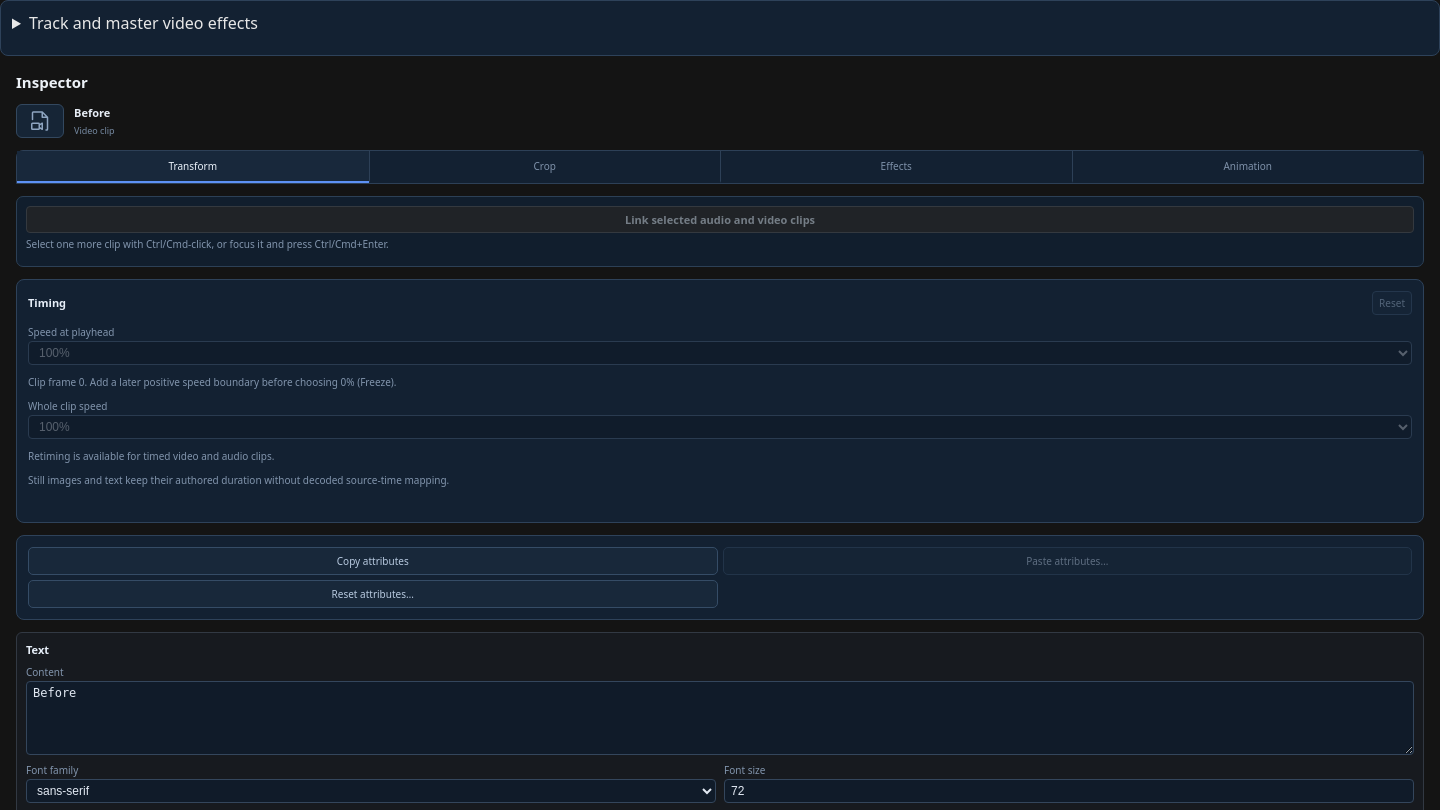
Test: text overlay editing UI › commits content and style edits once, and explains invalid geometry
Step 1. Replace the text in the text box with test id "inspector-text-content" with "After" → (720, 718), box [26, 680, 1414, 754]
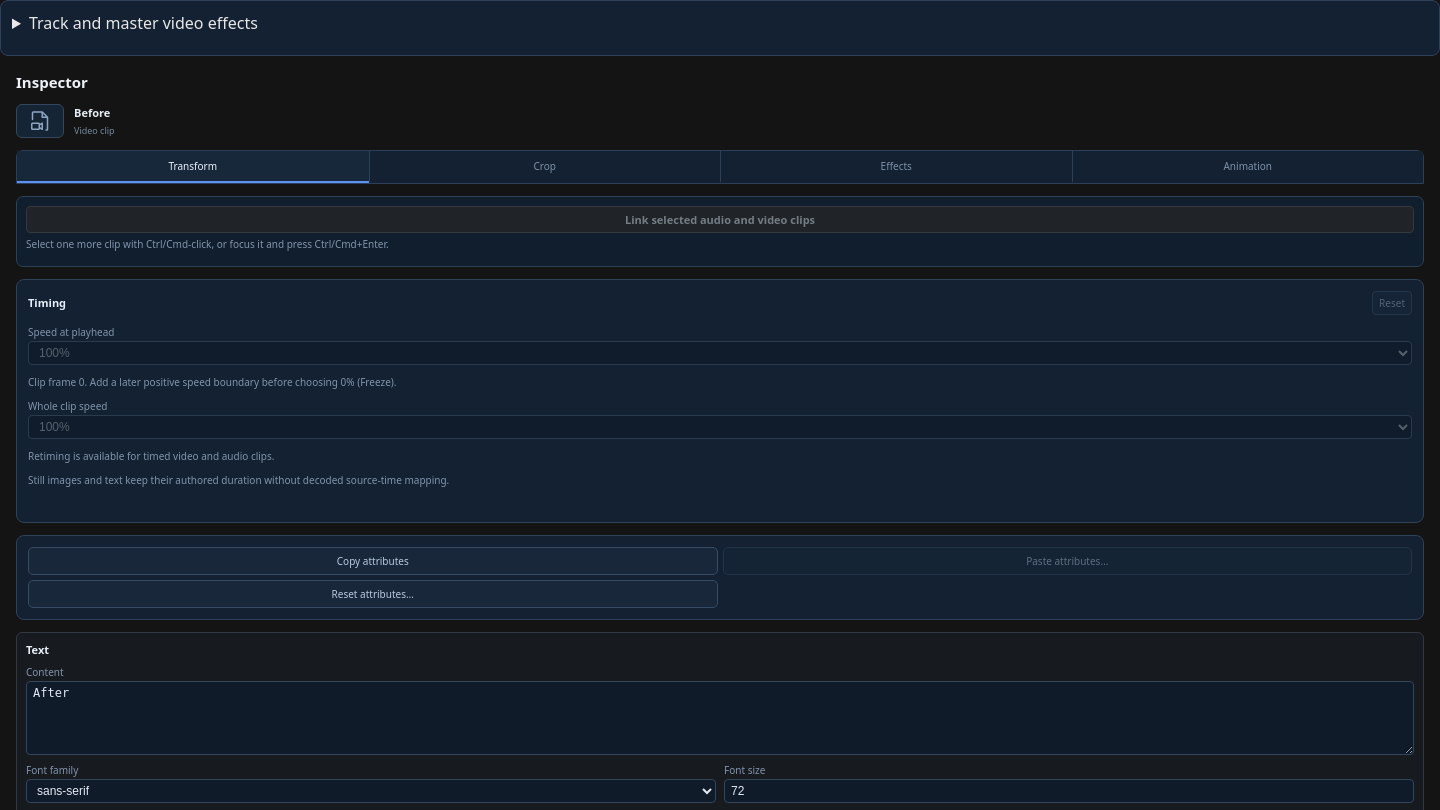
Expected: the text "Before" is shown, [74, 105, 110, 120]
Step 2. Leave the text box with test id "inspector-text-content", box [26, 680, 1414, 754]
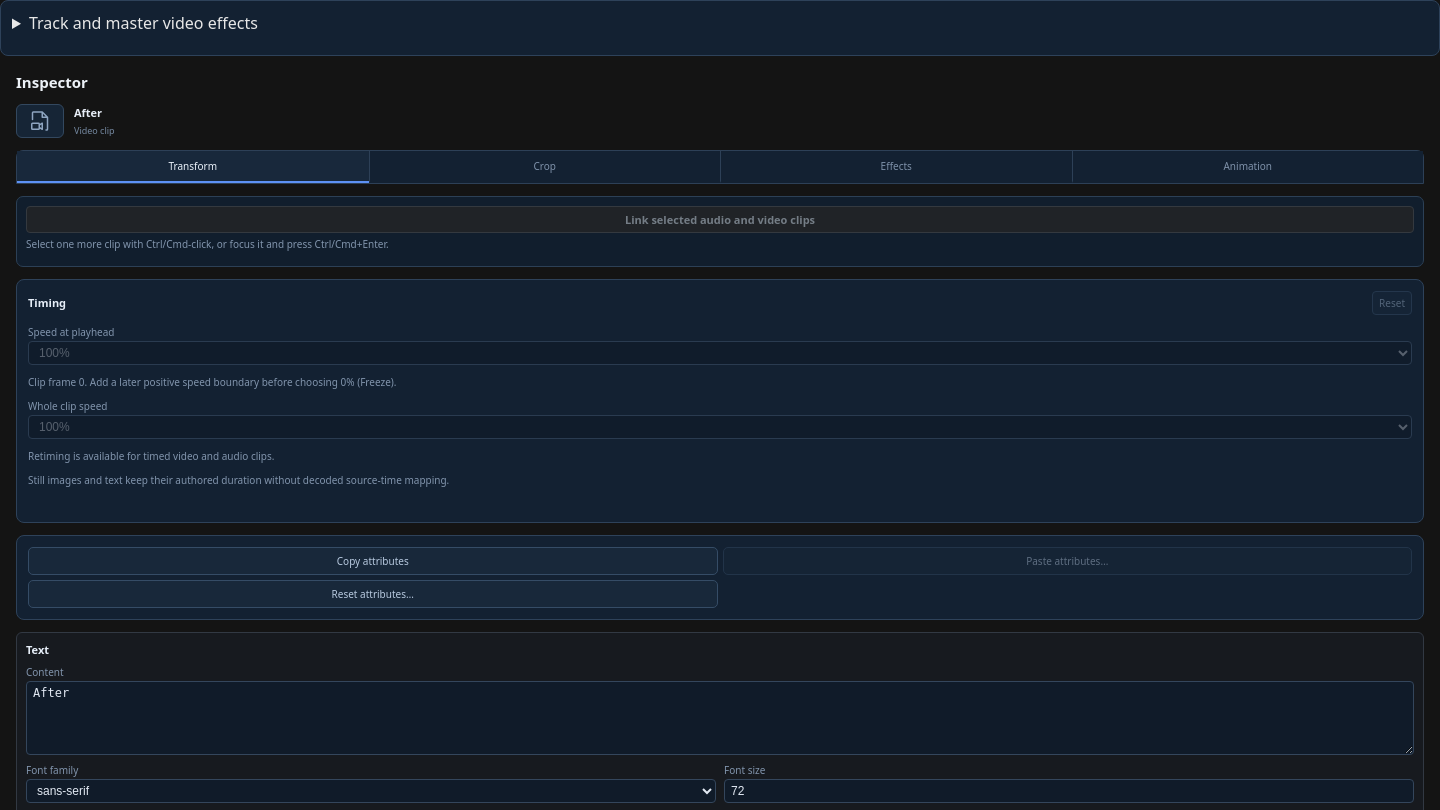
Now the text "After" is shown, box [74, 105, 102, 120]
Step 3. Select "monospace" in the dropdown with test id "inspector-text-font" → (371, 790), box [26, 778, 716, 802]
(page scrolled)
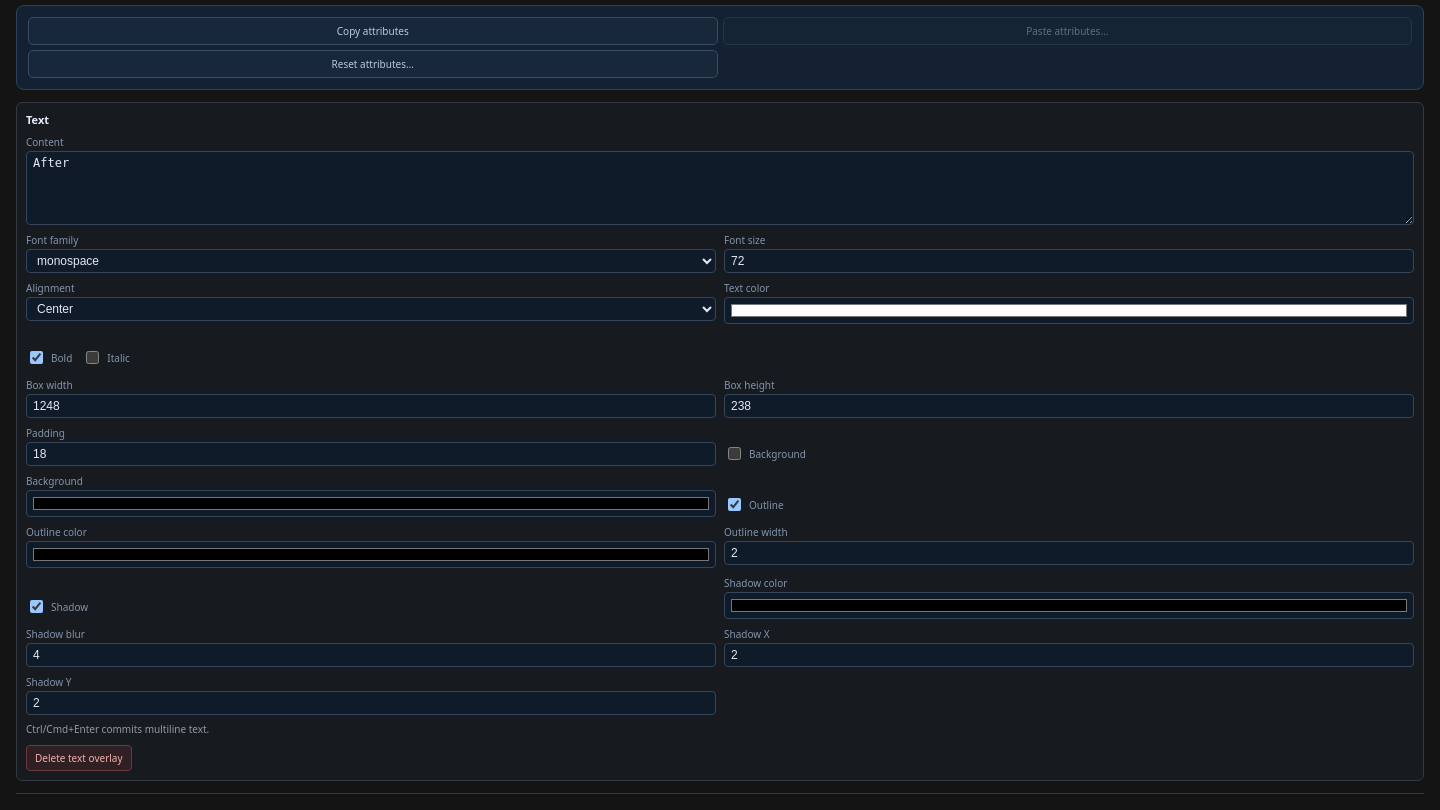
Step 4. Replace the text in the number field with test id "inspector-text-width" with "1" → (371, 406), box [26, 394, 716, 418]
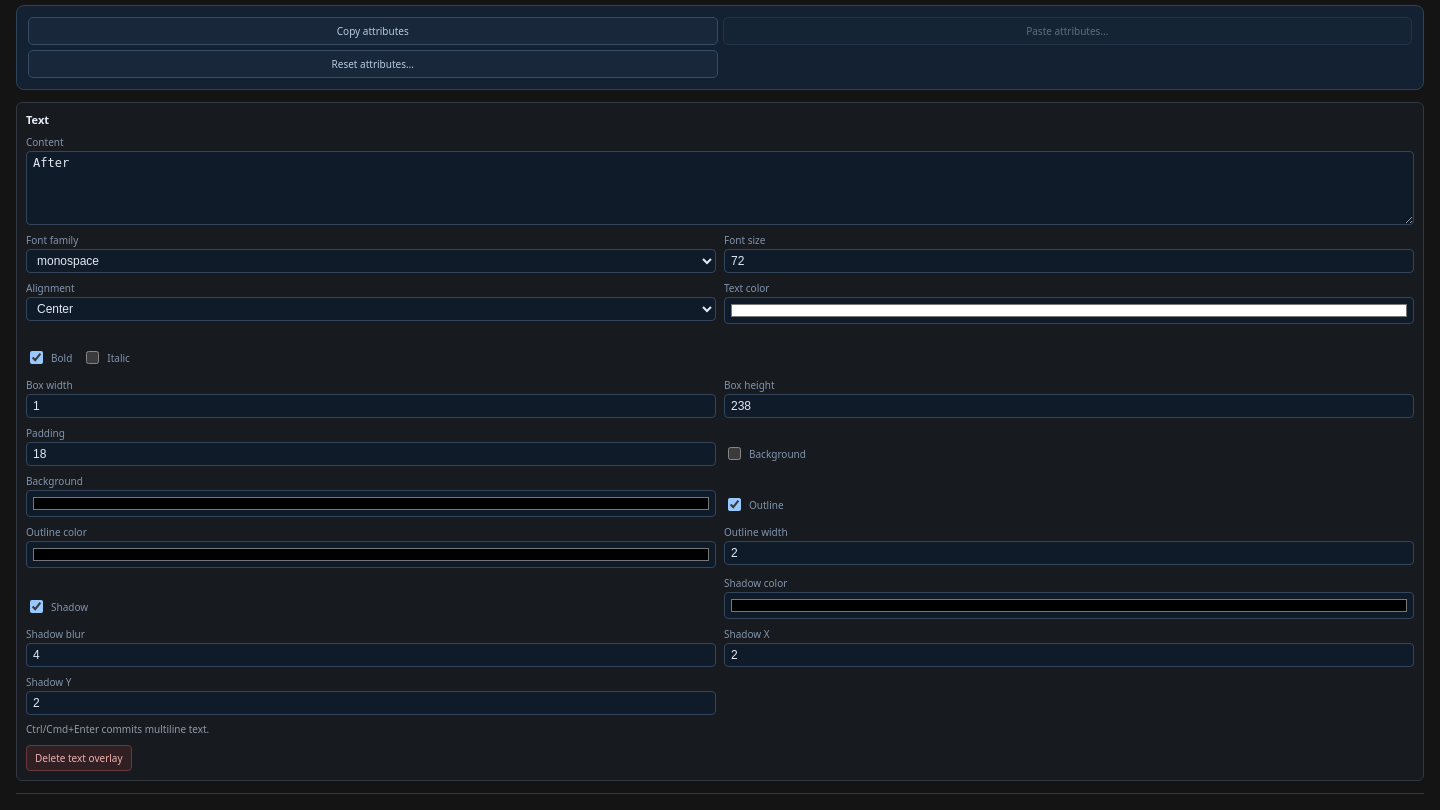
Step 5. Leave the number field with test id "inspector-text-width", box [26, 394, 716, 418]
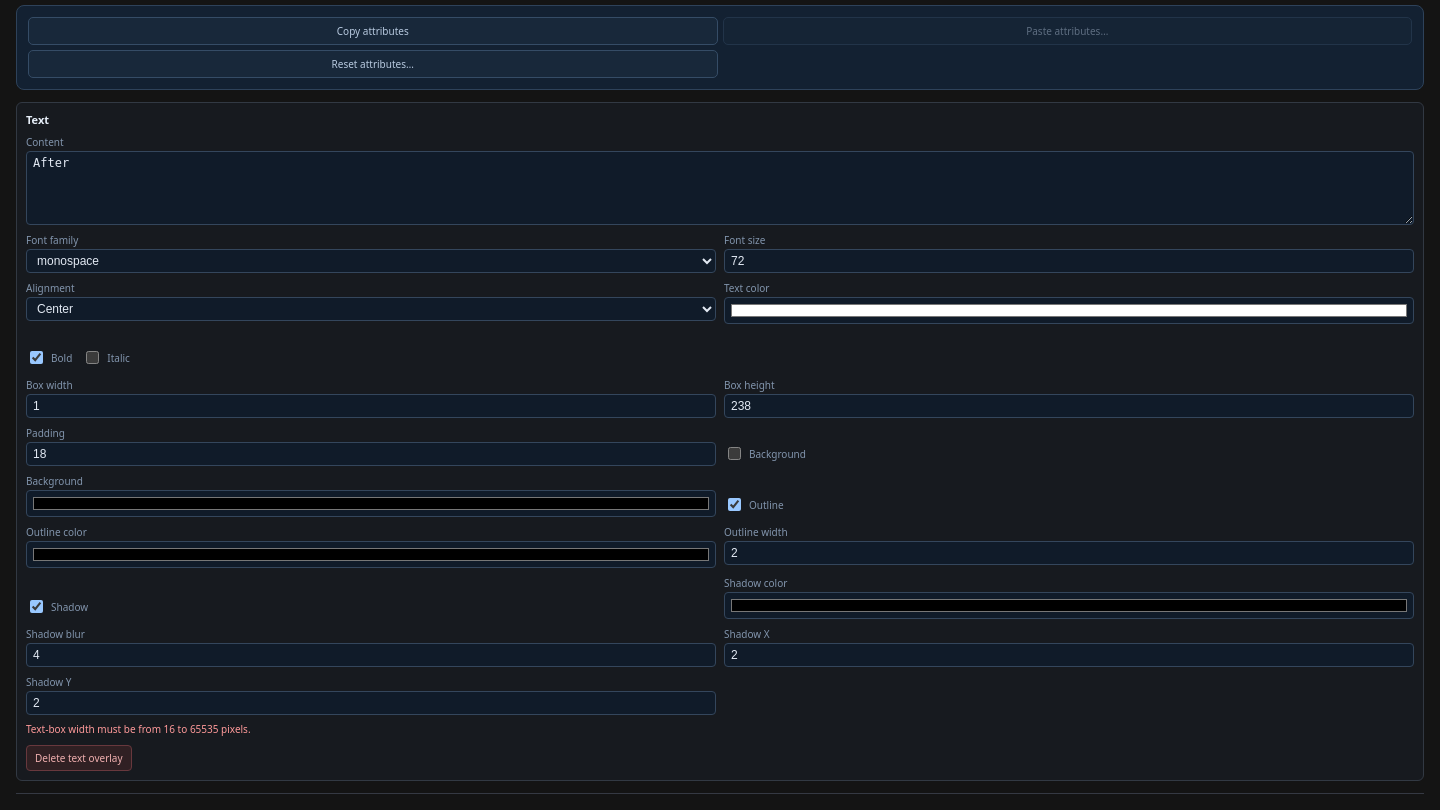
Now the message shows "width must be from", box [26, 722, 251, 736]
